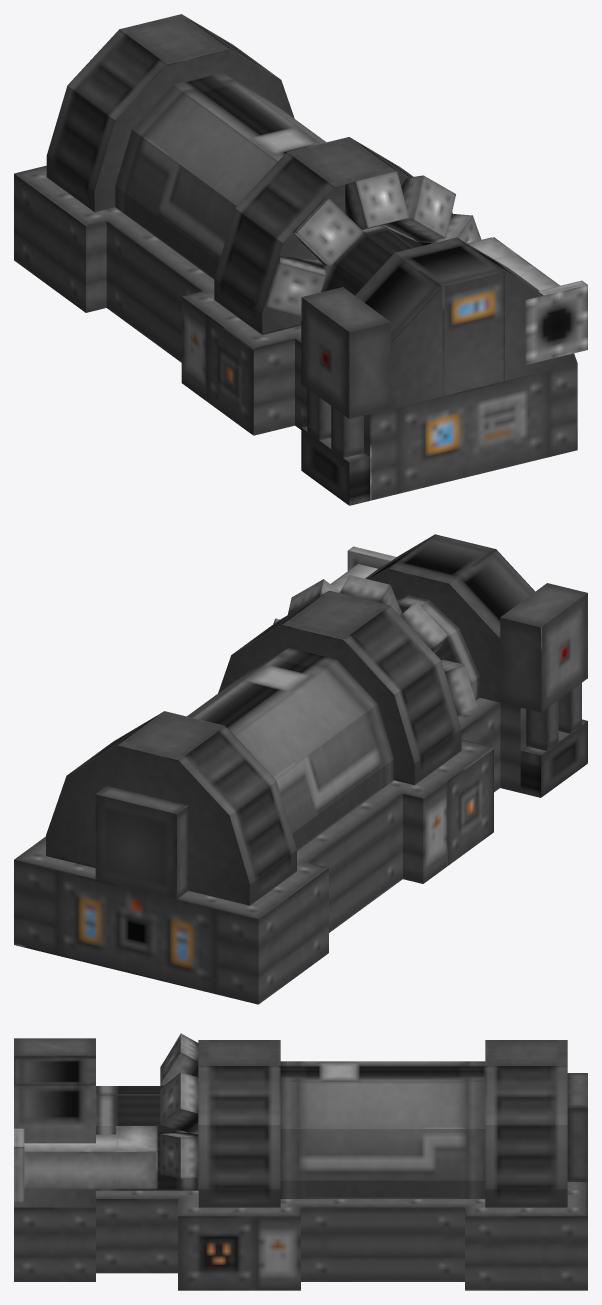
The model's file is gas_turbine.obj.
The picture shows the model from 3 angles, top to bottom: view 1: azimuth 30°, elevation 25°; view 2: azimuth 150°, elevation 25°; view 3: azimuth 270°, elevation 25°; orthographic projection. The views are drawn at different scales.
Visible parts, largest first — view 1: turbine; view 2: turbine; view 3: turbine.
Boxes of the visible parts, x1,y1,x2,y2 form: turbine: (14,14,587,505); turbine: (14,534,587,1004); turbine: (14,1033,587,1290).
Bounding box in the file's own units: 3 × 2.62 × 7.
